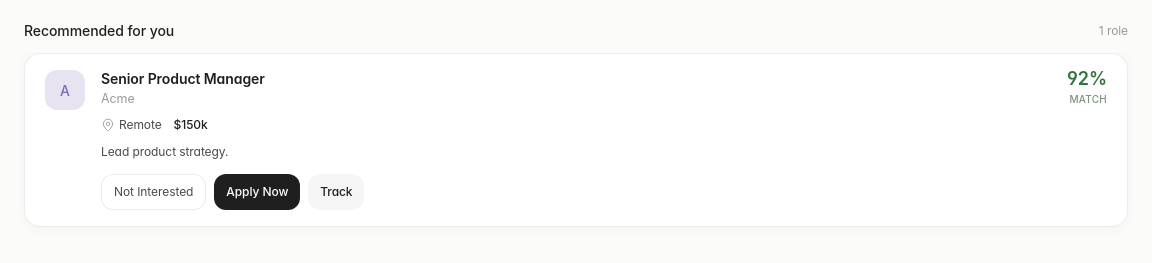
it: SwipeJobDeck job details navigation › closes the job details when clicking outside the panel
Click the heading "Senior Product Manager" at (183, 79), box x1=101 y1=70 x2=265 y2=88
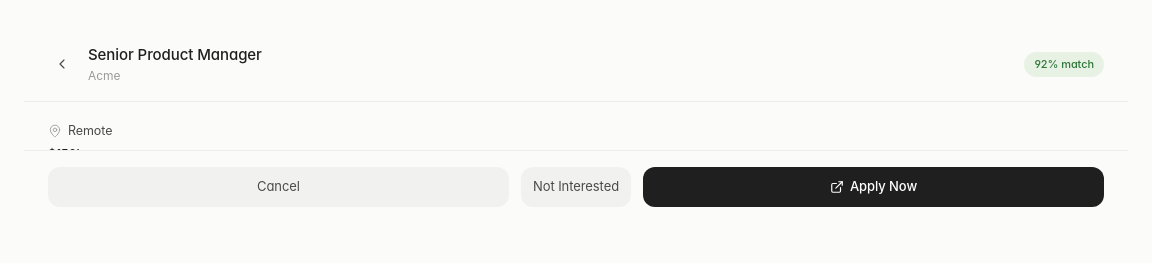
Expected: the button named "Back" is shown, x1=48 y1=50 x2=76 y2=78
Press the mouse on the element with test id "job-detail-backdrop" at (576, 123), box x1=0 y1=0 x2=1151 y2=247
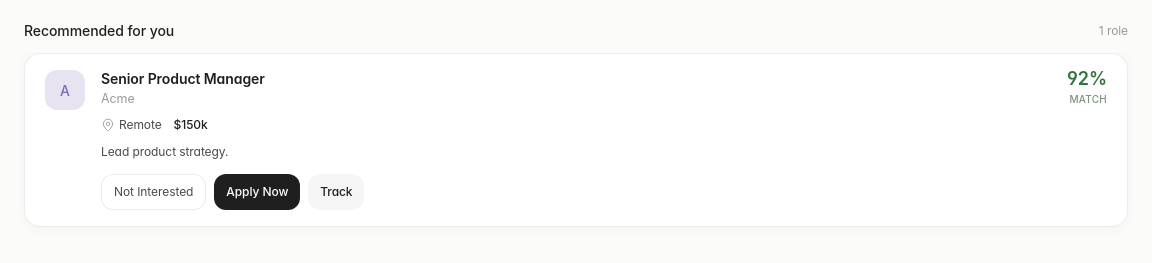
Expected: the button named "Back" is gone
